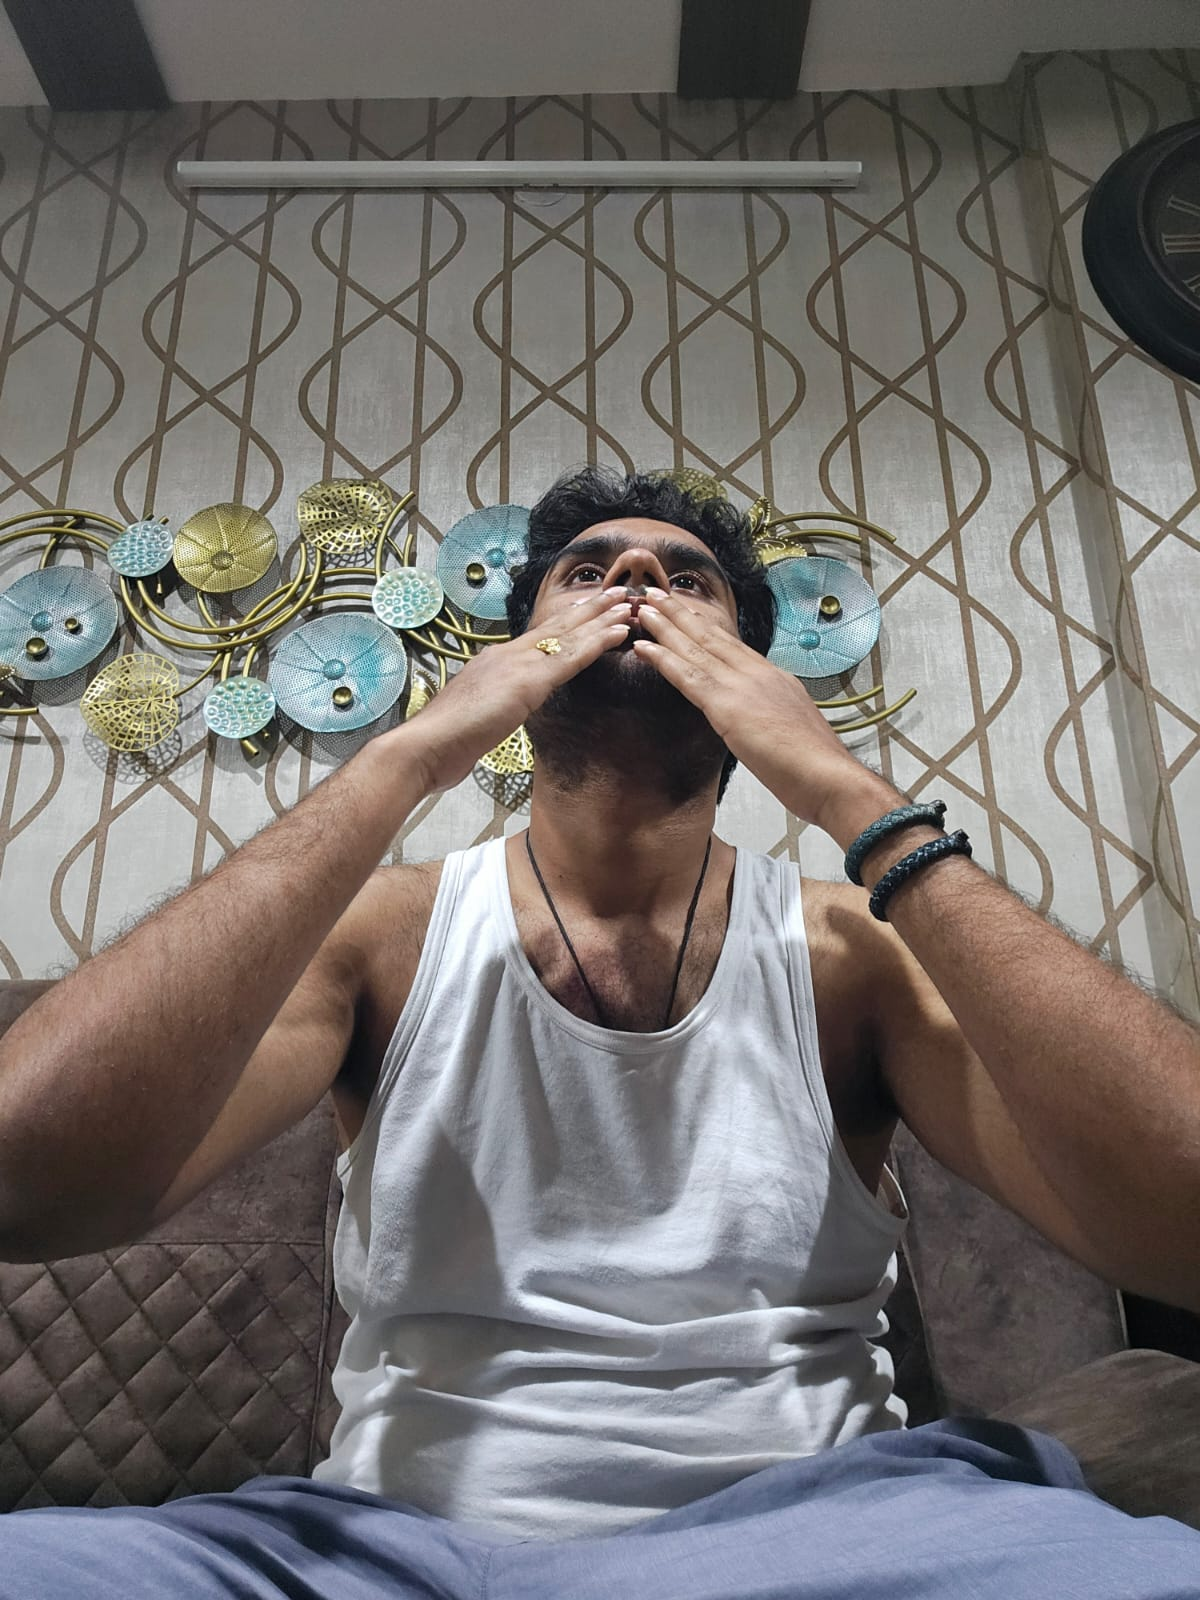thank you: (376, 586, 863, 797)
